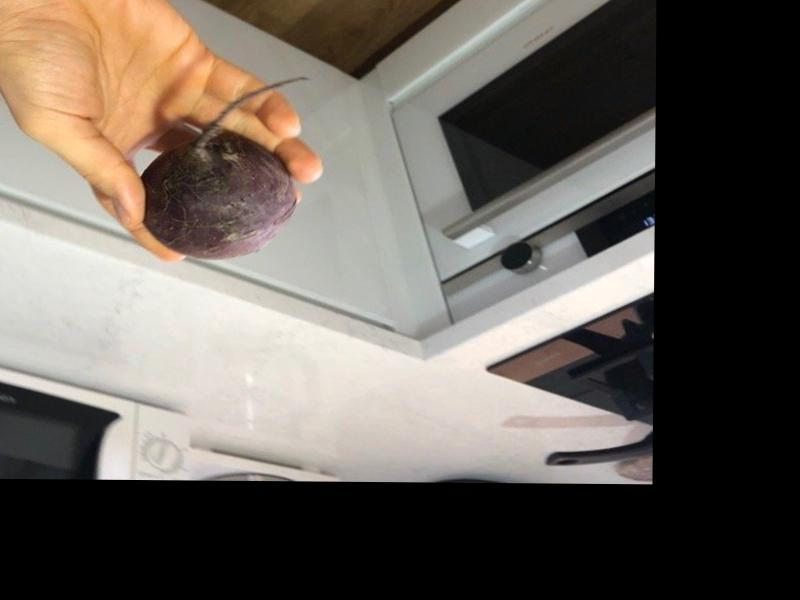Beet: (141, 74, 312, 260)
